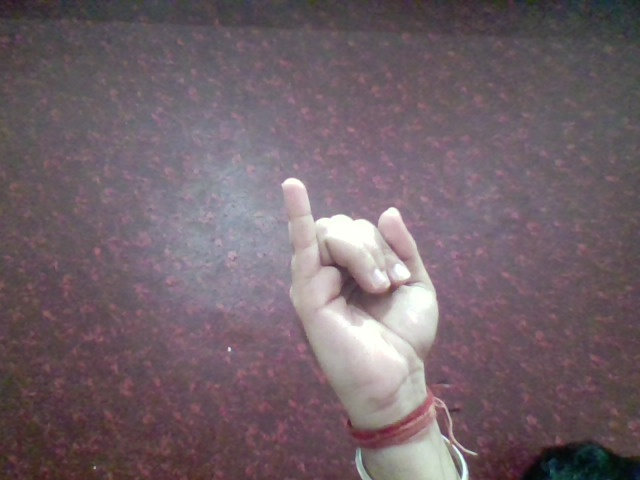j: (266, 173, 462, 391)
